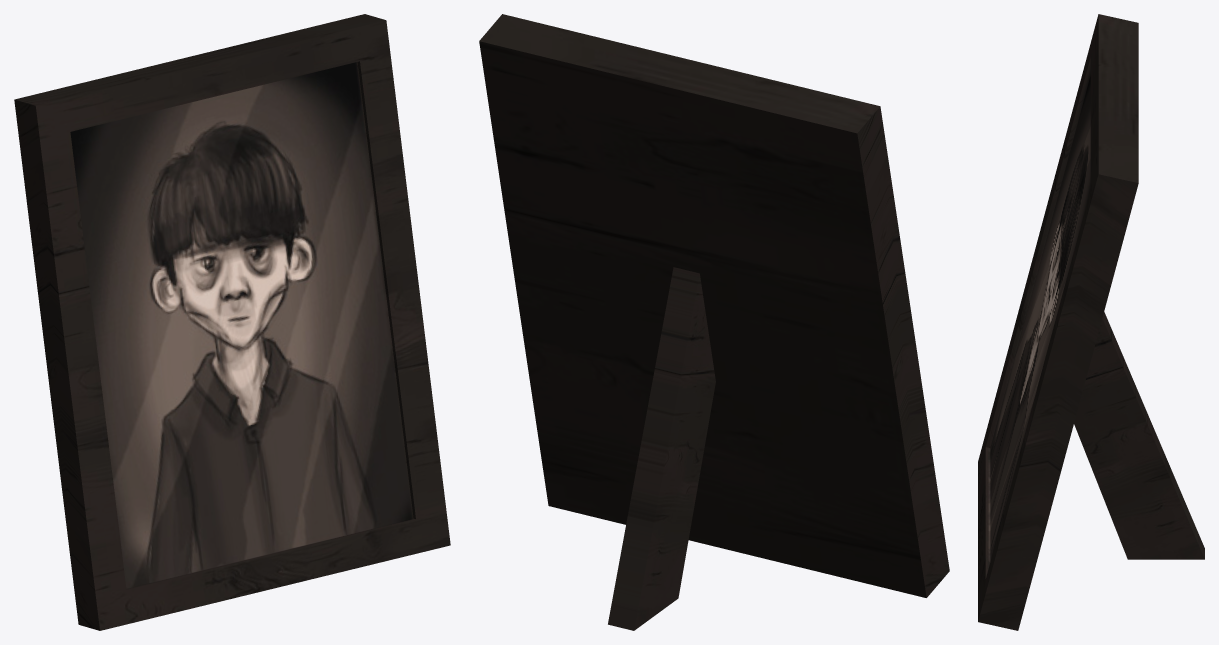
File: cadre_kid.fbx
3 renders of one model, left to right at view 1: azimuth 30°, elevation 25°; view 2: azimuth 150°, elevation 25°; view 3: azimuth 270°, elevation 25°, orthographic. The views are drawn at different scales.
Parts seen in each view (by area): view 1: polySurface5; view 2: polySurface5; view 3: polySurface5.
Part boxes in pixels (x1=…): polySurface5: x1=14, y1=14, x2=450, y2=630; polySurface5: x1=479, y1=14, x2=949, y2=630; polySurface5: x1=978, y1=14, x2=1204, y2=630.
Bounding box in the file's own units: 6.07 × 8.07 × 3.63.
